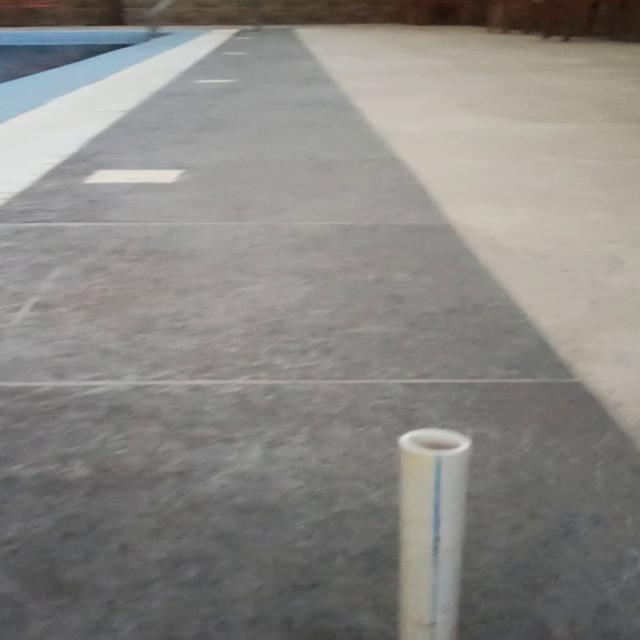Cube: (395, 427, 472, 639)
